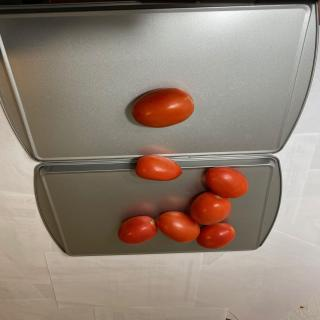Tomato: (131, 87, 195, 128), (190, 191, 232, 225), (205, 166, 249, 198), (157, 211, 200, 243), (135, 154, 183, 181), (118, 216, 158, 244), (196, 223, 236, 249)
